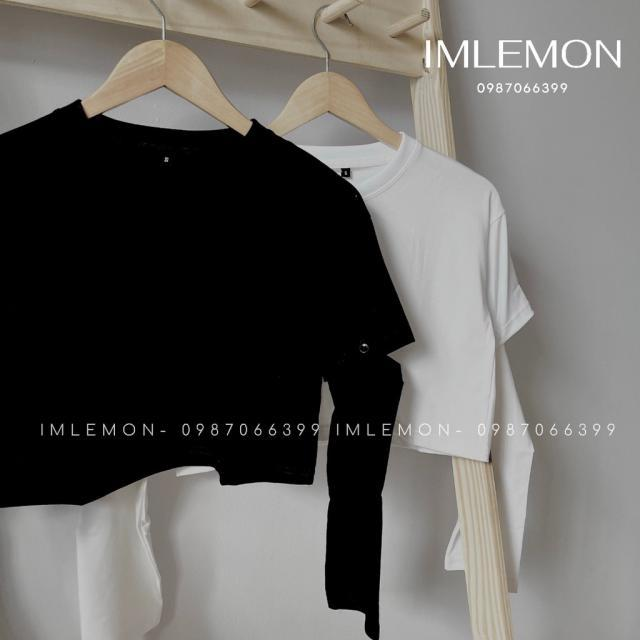Shirt: (62, 128, 546, 640), (0, 98, 401, 640)
